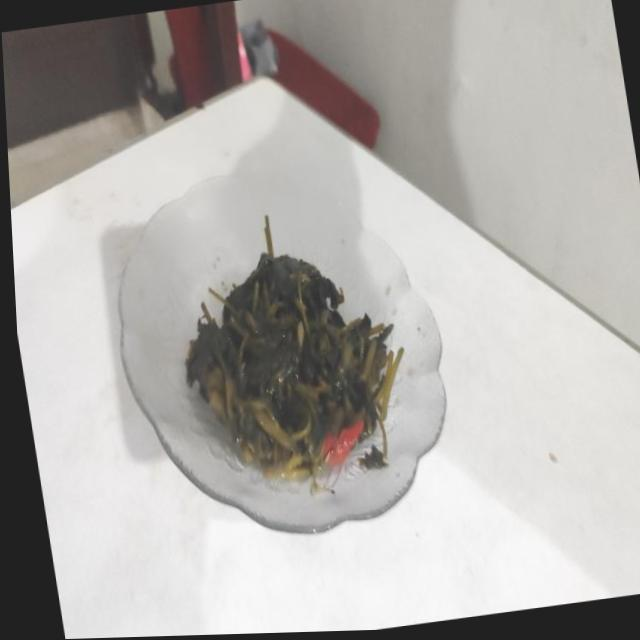tumis_kangkung: (185, 249, 401, 480)
